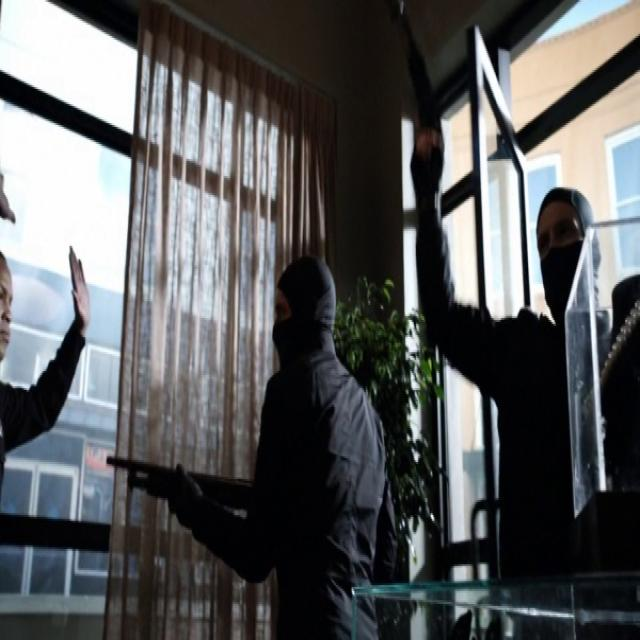rifle: (102, 448, 262, 521)
